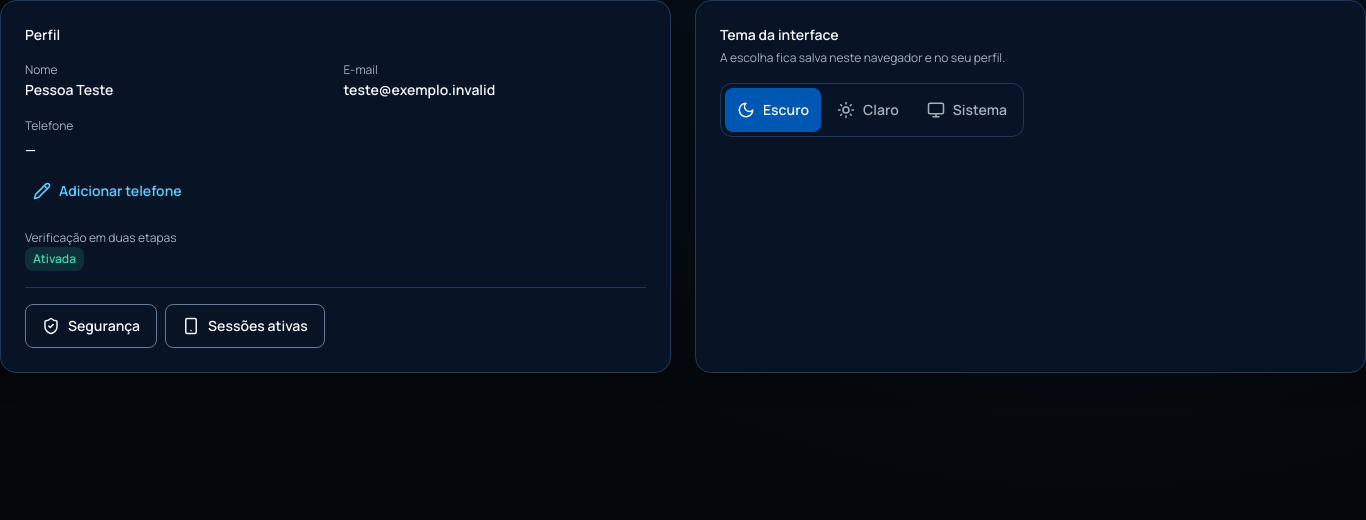
Test: Minha conta — telefone › adiciona o telefone com máscara BR, envia só os dígitos e mostra o salvo
Expected: the text with test id "account-phone" reads "—", left=25, top=140, right=36, bottom=159
Click the button "Adicionar telefone" at (107, 191), box left=25, top=169, right=190, bottom=213
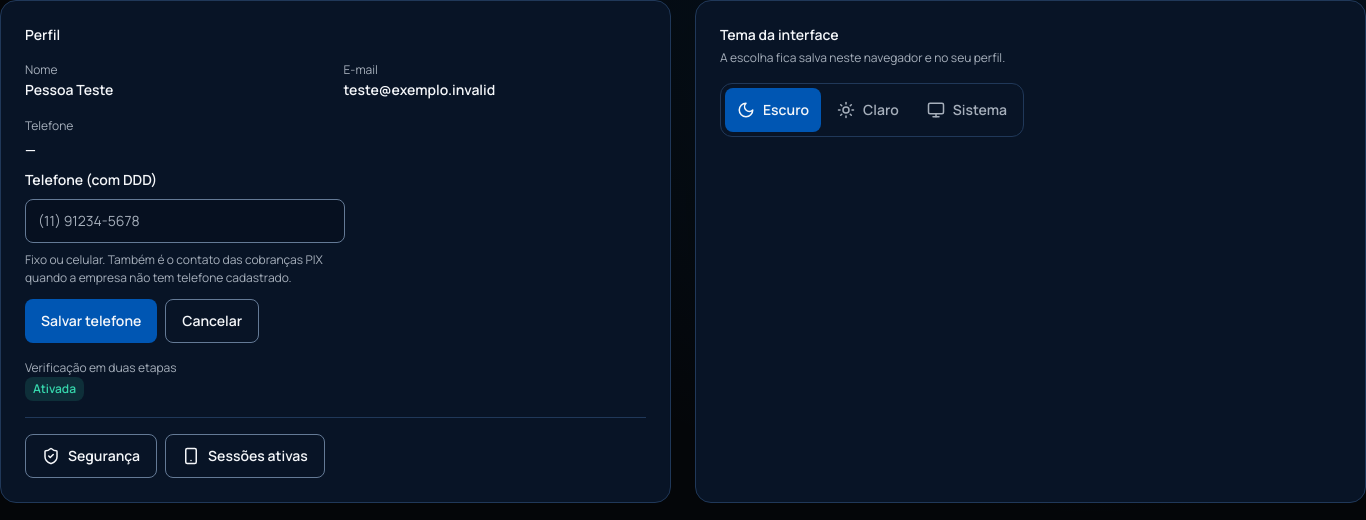
Type "11900000000" into the field labelled "Telefone (com DDD)" at (185, 221), box left=25, top=199, right=345, bottom=243
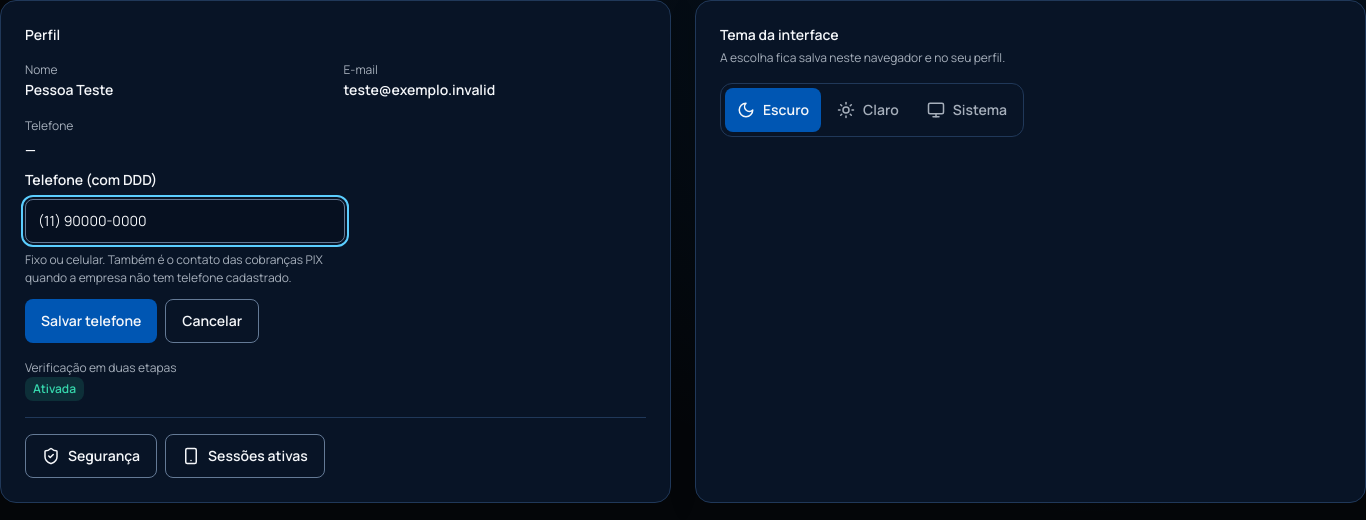
Expected: the field labelled "Telefone (com DDD)" holds "(11) 90000-0000", left=25, top=199, right=345, bottom=243
Click the button "Salvar telefone" at (91, 321), box left=25, top=299, right=157, bottom=343
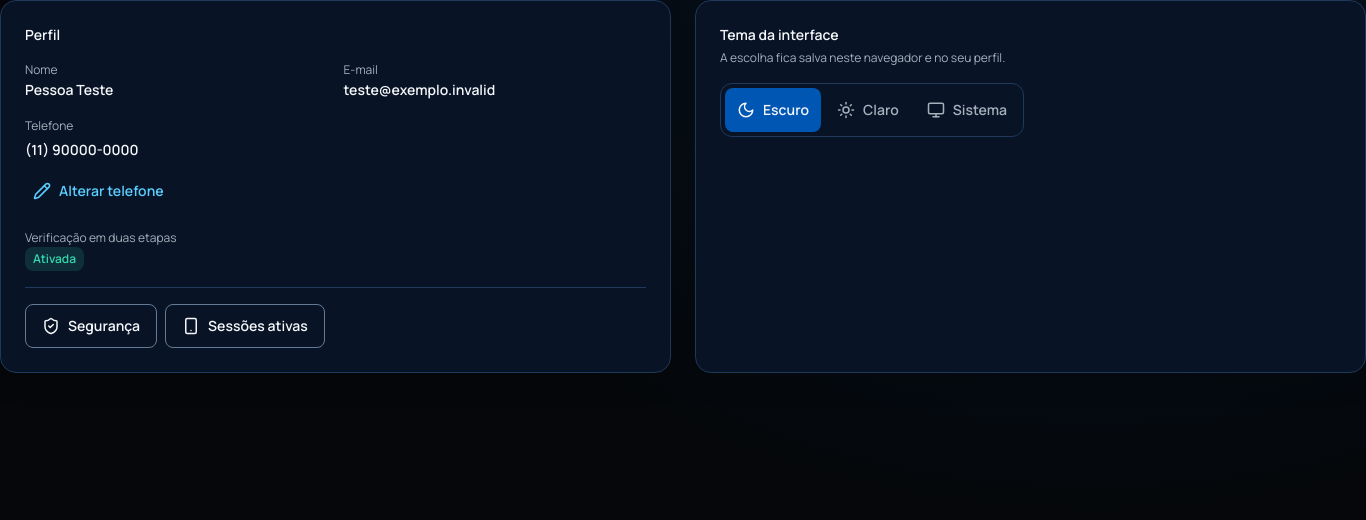
Expected: the text with test id "account-phone" reads "(11) 90000-0000", left=25, top=140, right=138, bottom=159
Expected: the label "Telefone (com DDD)" is gone
